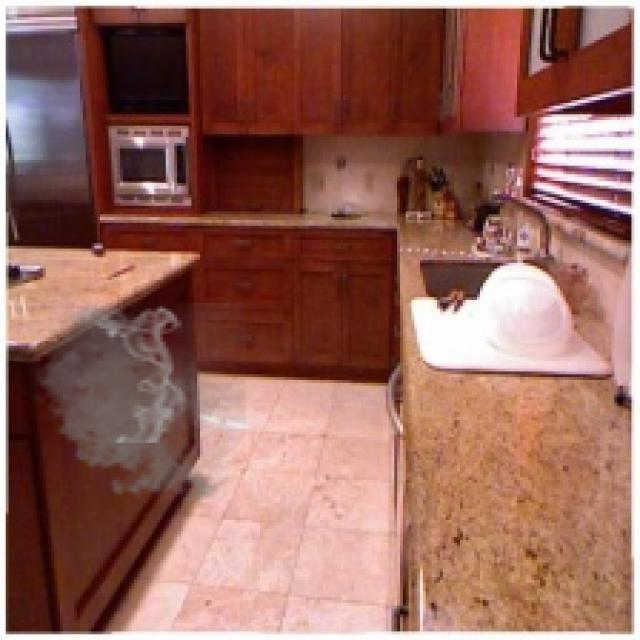smoke: (26, 300, 246, 509)
